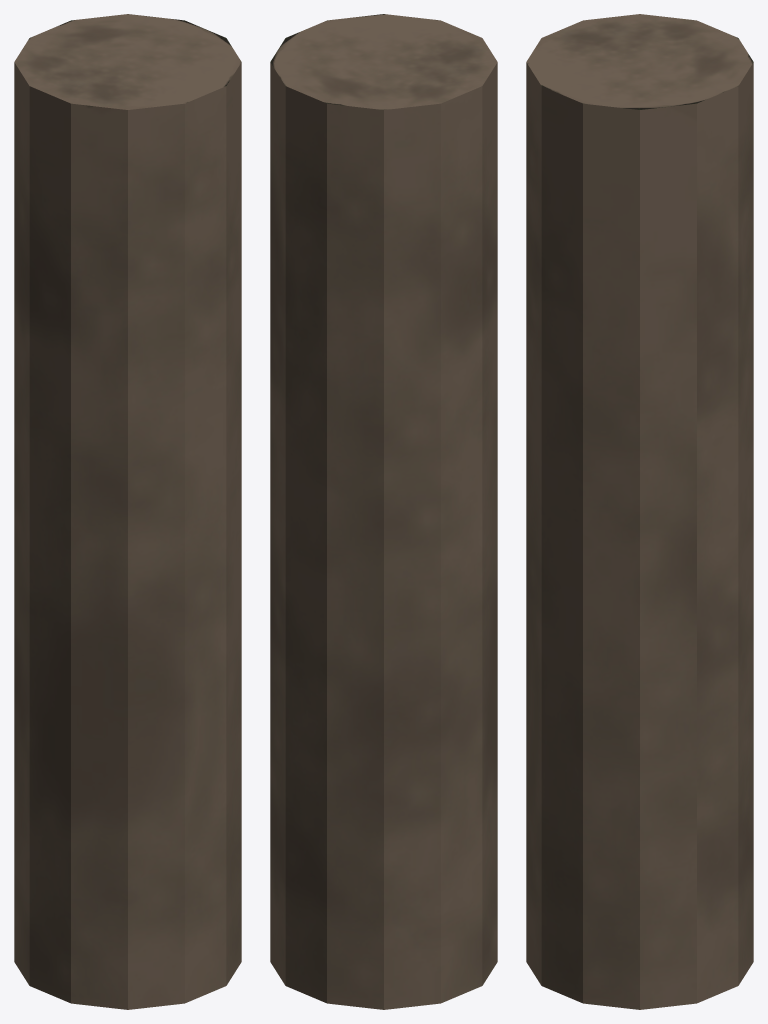
The model's file is 3DModel_StoneCylinderPiller_V1_BS.fbx.
3 renders of one model, left to right at view 1: azimuth 30°, elevation 25°; view 2: azimuth 150°, elevation 25°; view 3: azimuth 270°, elevation 25°, orthographic.
Visible parts, largest first — view 1: Assest_StoneCylinderPiller_V1_BS; view 2: Assest_StoneCylinderPiller_V1_BS; view 3: Assest_StoneCylinderPiller_V1_BS.
Boxes of the visible parts, <box> form: Assest_StoneCylinderPiller_V1_BS: <box>14,14,241,1009</box>; Assest_StoneCylinderPiller_V1_BS: <box>270,14,497,1009</box>; Assest_StoneCylinderPiller_V1_BS: <box>526,14,753,1009</box>.
Bounding box in the file's own units: 1.64 × 7.17 × 1.64.
1 material, 1 textured.
